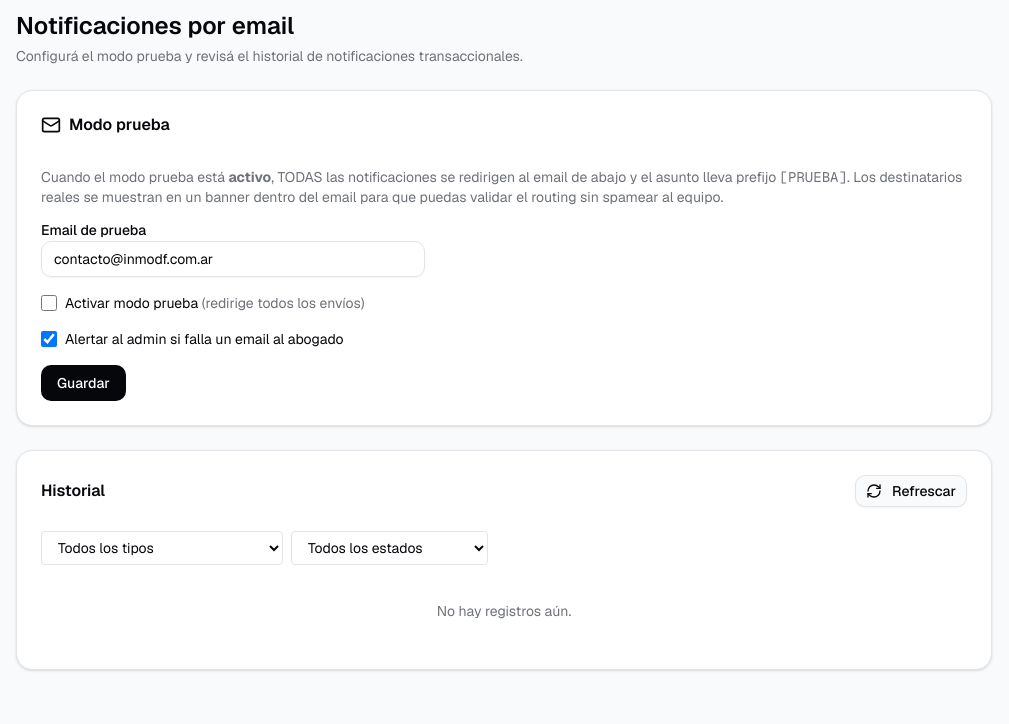
Test case: Notificaciones — el error de la API se muestra, pero la tubería interna no › un 500 con el NEXT_REDIRECT crudo se traduce a un motivo entendible
The image size is (1009, 724).
Click the button "Guardar".
click(83, 383)  # box 41,365 -> 126,401
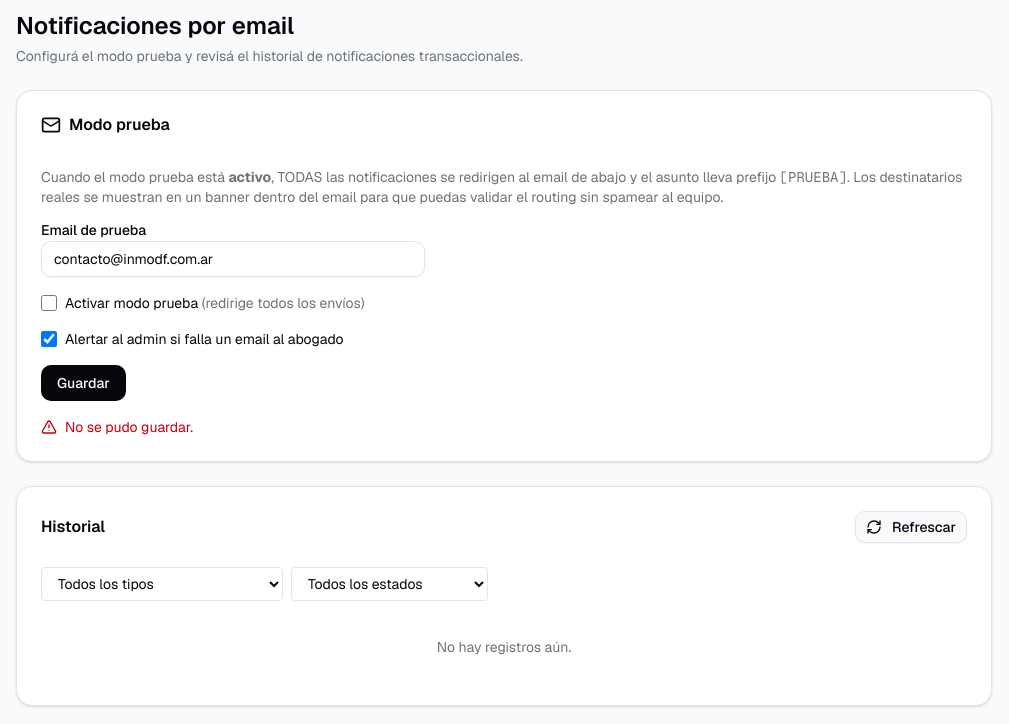
Expected: the text "No se pudo guardar." is shown, 41,418 -> 193,436
